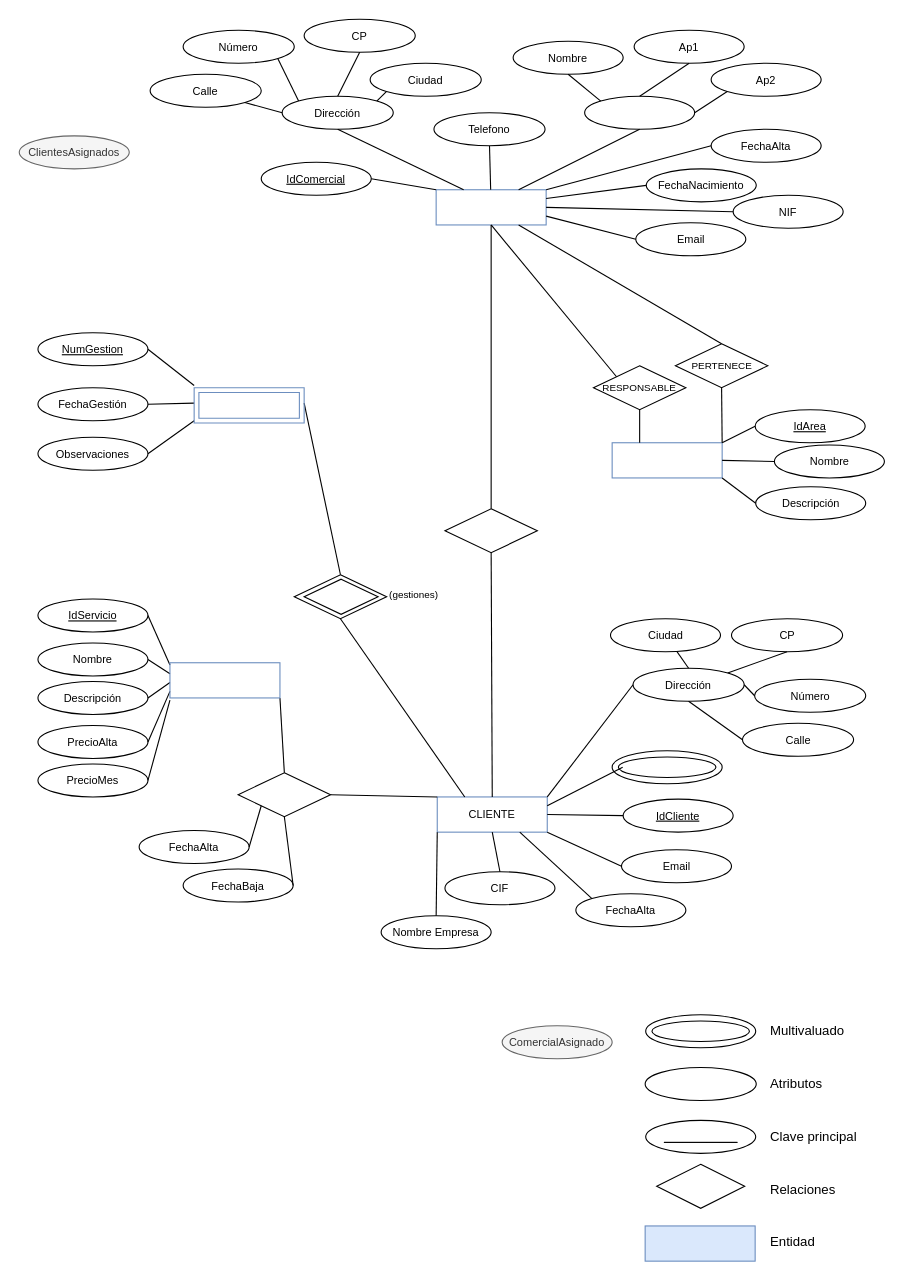
Image size: 910x1280. Some labels were removed from this diagram. The box of each missing label's shape, as (x1, y1, x2, y2) in pixels:
ASIGNAR: (444, 508, 537, 553)
COMERCIAL: (435, 189, 546, 225)
CONTRATA: (237, 772, 331, 817)
Datos: (584, 95, 695, 129)
GESTIÓN: (193, 387, 304, 423)
SERVICIO: (169, 662, 280, 698)
TeléfonoS: (611, 750, 722, 784)
TIENE: (303, 578, 378, 614)
ÁREA: (611, 442, 722, 478)
